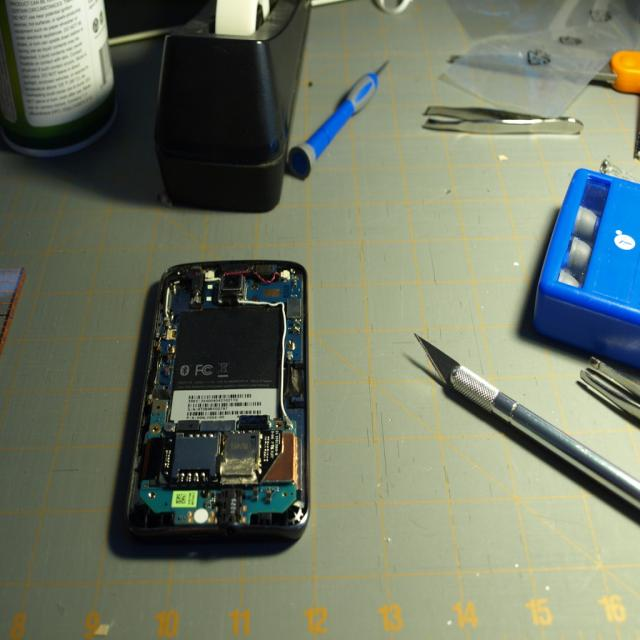Mobile-phone: (113, 254, 313, 560)
